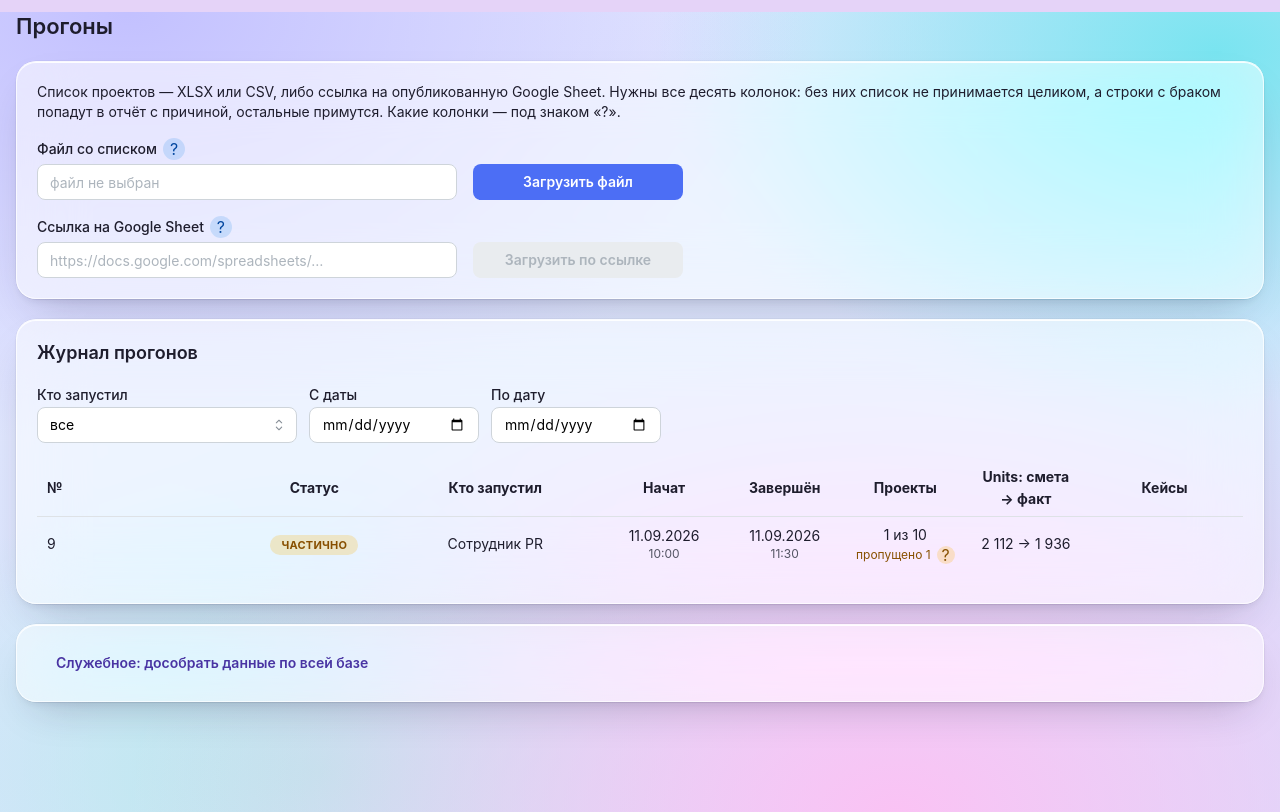
пропуски прогона › W1: домен в раскрытии — словами сервера, как его пишет человек
What coordinates should you click on to do the following:
click the button named "почему пропущены"
I would click on:
 (946, 555)
Its box is x1=937 y1=546 x2=955 y2=564.
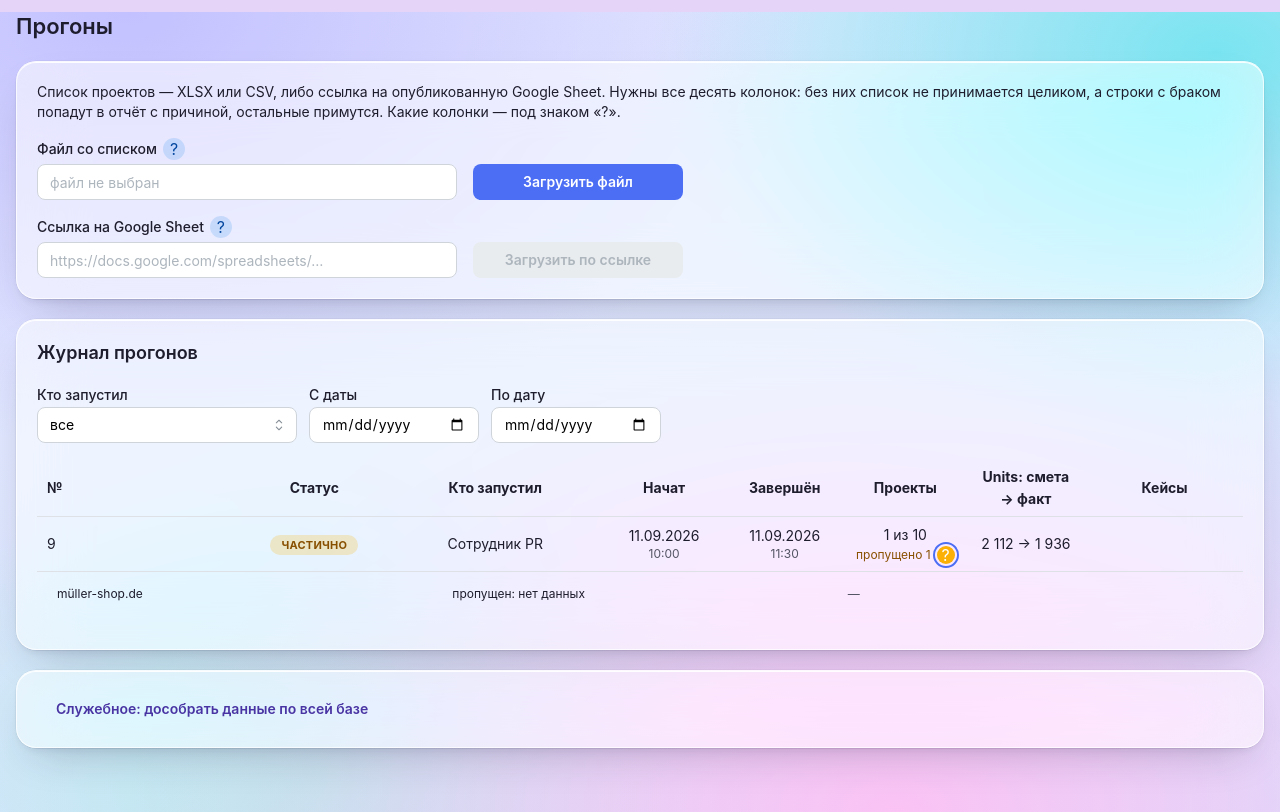
Expected: the text "müller-shop.de" is shown, x1=57 y1=586 x2=143 y2=601
